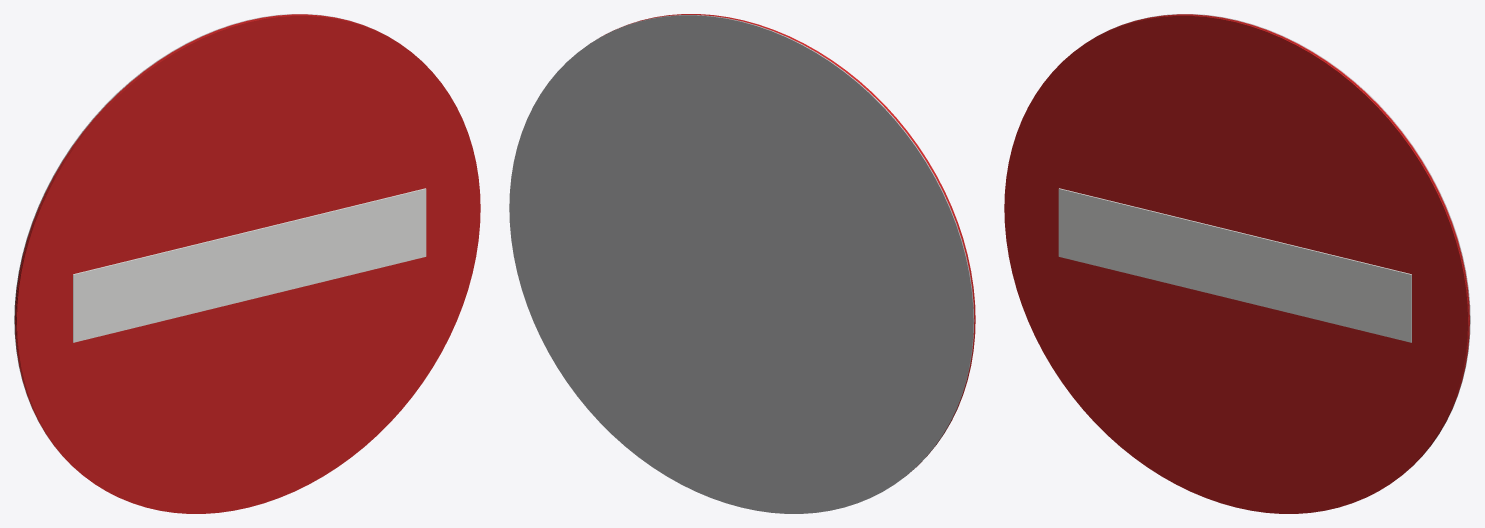
The picture shows the model from 3 angles, left to right: view 1: azimuth 30°, elevation 25°; view 2: azimuth 150°, elevation 25°; view 3: azimuth 330°, elevation 25°; orthographic projection.
Visible parts, largest first — view 1: B1_fond, B1_picto0, B1_bord, B1_dos; view 2: B1_dos, B1_bord, B1_fond; view 3: B1_fond, B1_picto0, B1_bord, B1_dos.
Part boxes in pixels (x1,y1,x2,y2): B1_fond: (16,15,480,513); B1_picto0: (73,188,426,342); B1_bord: (15,14,427,491); B1_dos: (14,14,374,470); B1_dos: (509,15,974,513); B1_bord: (590,14,974,471); B1_fond: (642,14,975,431); B1_fond: (1004,15,1468,513); B1_picto0: (1058,188,1411,342); B1_bord: (1057,14,1469,491); B1_dos: (1110,14,1470,470).
Size of the model in its own units: 0.65 by 0.65 by 0.0083.
